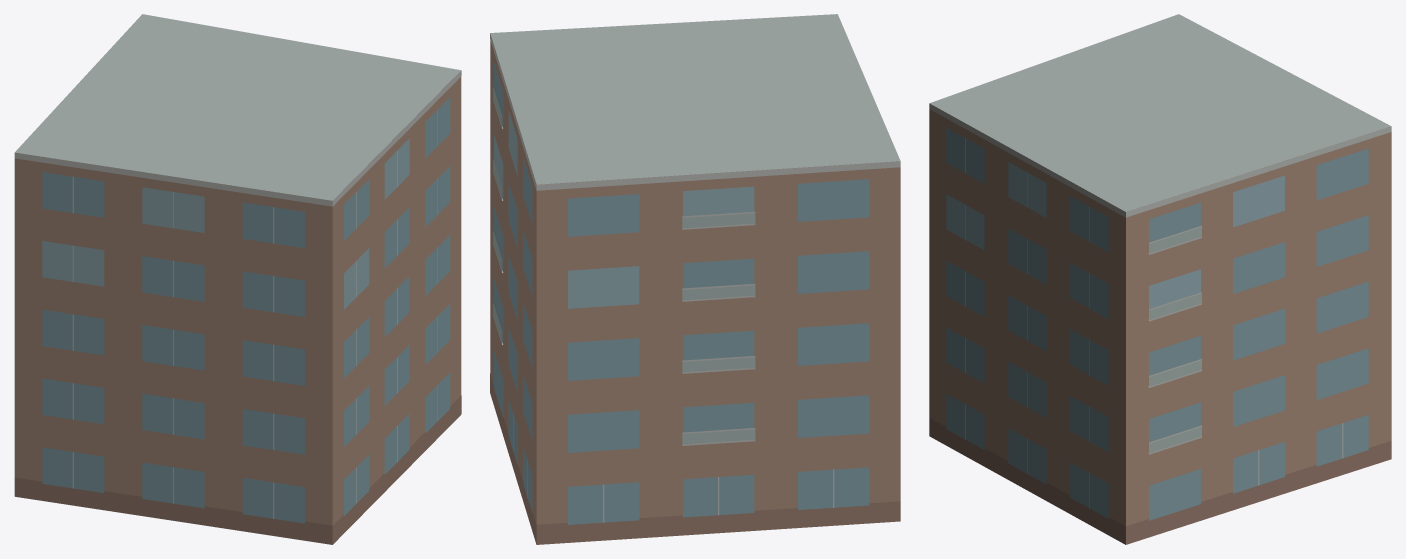
The model's file is survey-upis-32734334.glb.
3 views of the same model, side by side, from view 1: azimuth 30°, elevation 25°; view 2: azimuth 150°, elevation 25°; view 3: azimuth 270°, elevation 25° (orthographic). The views are drawn at different scales.
Visible parts, largest first — view 1: survey-upis-32734334.tmp; view 2: survey-upis-32734334.tmp; view 3: survey-upis-32734334.tmp.
Boxes of the visible parts, x1=… form: survey-upis-32734334.tmp: x1=14, y1=14, x2=461, y2=544; survey-upis-32734334.tmp: x1=490, y1=14, x2=900, y2=544; survey-upis-32734334.tmp: x1=929, y1=14, x2=1391, y2=544.
Size of the model in its own units: 18.38 by 14.4 by 18.13.
